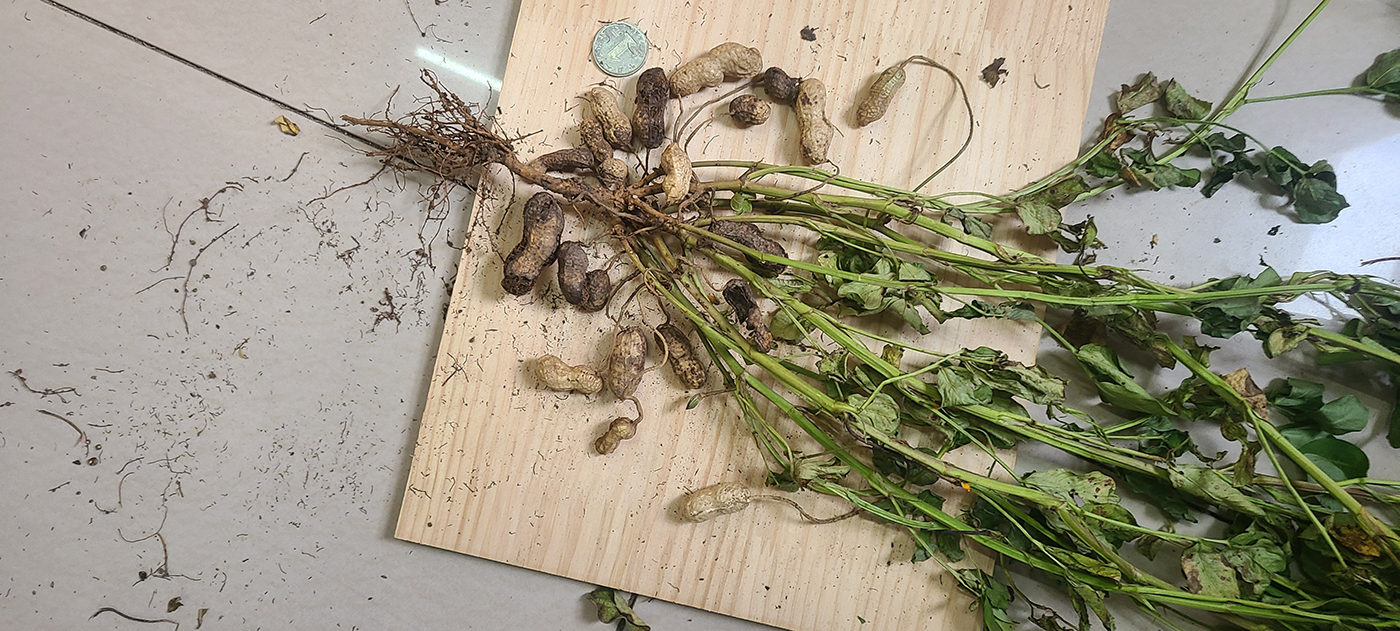h: (765, 69, 833, 170), (670, 41, 761, 98), (534, 354, 605, 398), (858, 63, 906, 127), (582, 119, 625, 187), (607, 328, 646, 401), (590, 86, 633, 150), (683, 482, 751, 522), (663, 144, 690, 205), (730, 93, 772, 129), (595, 418, 636, 453), (537, 150, 593, 171)
l: (502, 192, 564, 295), (710, 218, 788, 277), (557, 241, 610, 313), (722, 279, 773, 353), (655, 322, 708, 390), (635, 66, 666, 149)
